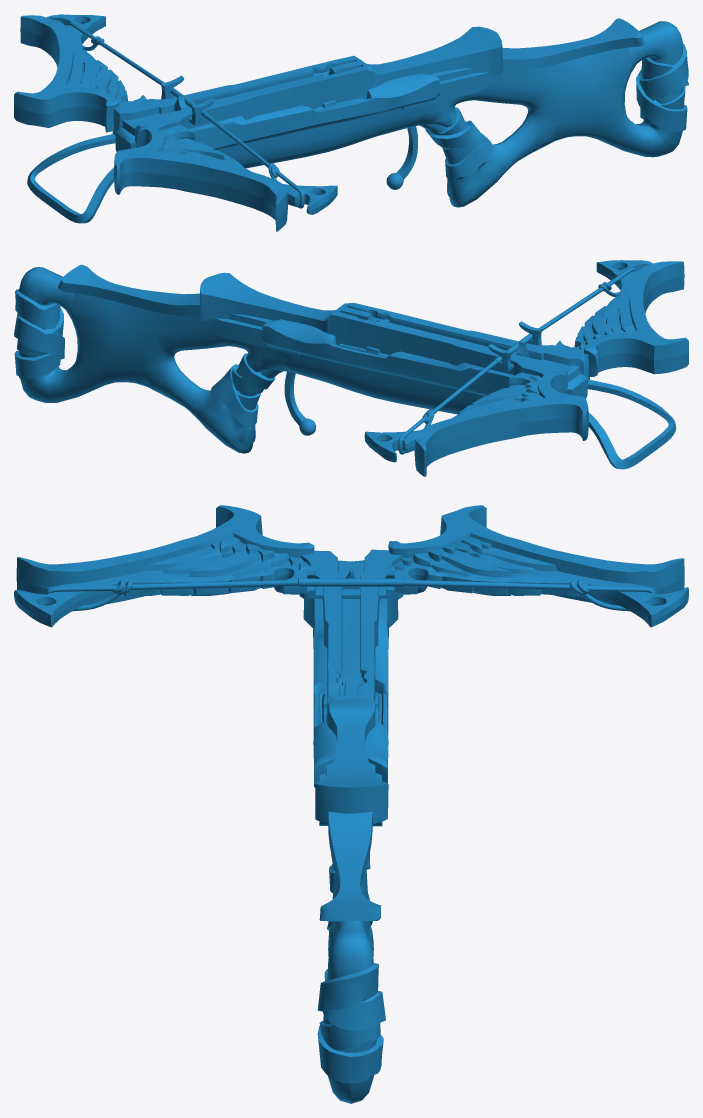
The model's file is SM_Rune_Crossbow_4.obj.
3 views of the same model, one above another, from view 1: azimuth 30°, elevation 25°; view 2: azimuth 150°, elevation 25°; view 3: azimuth 270°, elevation 25° (orthographic). The views are drawn at different scales.
Bounding box in the file's own units: 1090 × 299 × 776.
